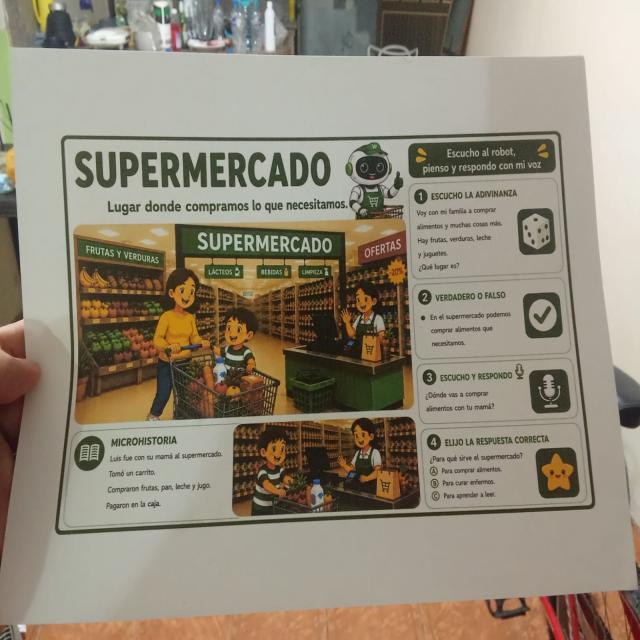supermercado: (51, 124, 599, 541)
